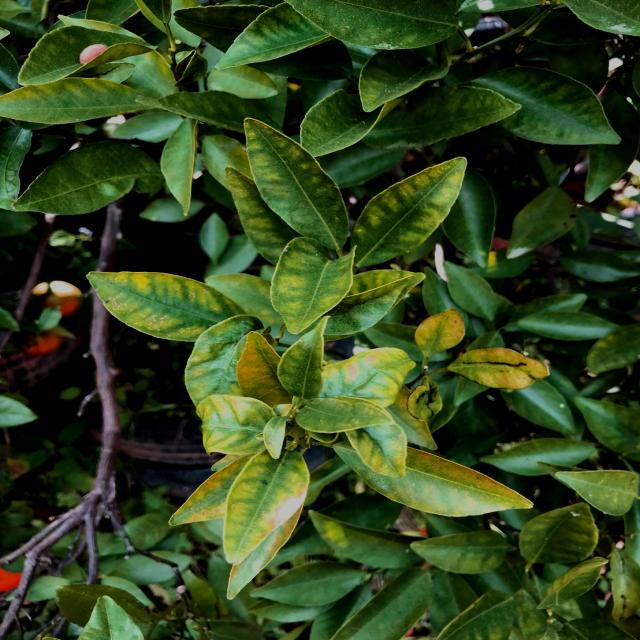greening: (359, 158, 466, 251), (105, 274, 242, 345), (373, 458, 524, 506), (226, 459, 296, 553), (272, 238, 348, 320)
